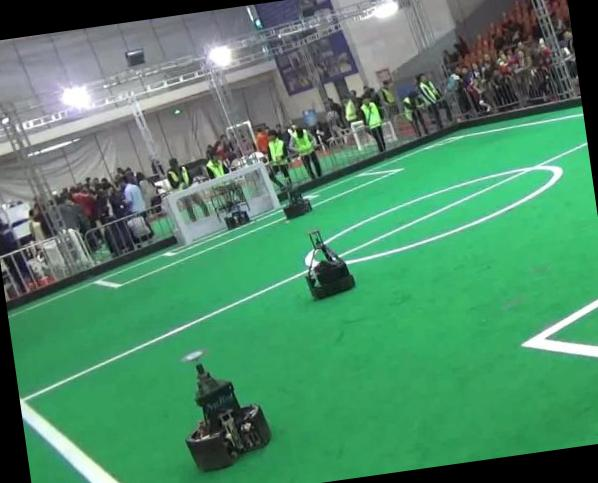goal: (167, 195, 192, 244), (257, 162, 280, 208)
robot: (181, 349, 270, 470), (305, 230, 355, 297), (210, 181, 250, 229), (283, 180, 311, 219)
